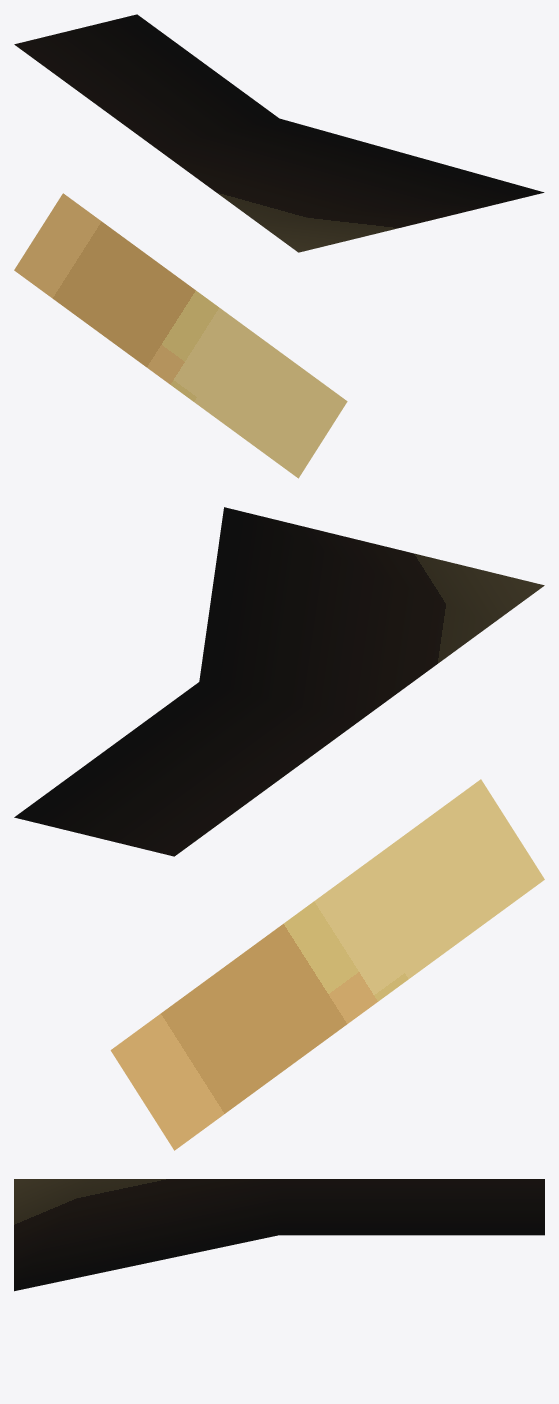
3 renders of one model, top to bottom at view 1: azimuth 30°, elevation 25°; view 2: azimuth 150°, elevation 25°; view 3: azimuth 270°, elevation 25°, orthographic. The views are drawn at different scales.
Bounding box in the file's own units: 0.5 × 0.438 × 1.
Materials: 2 (2 with a texture image).
